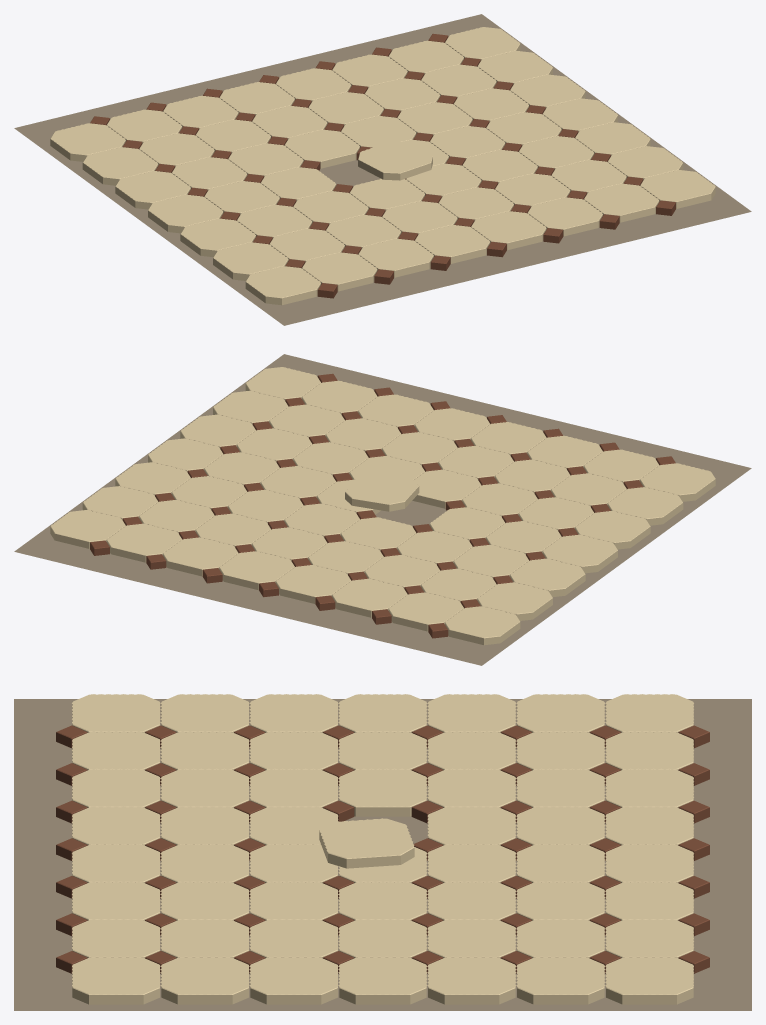
Rendered from terilgan.glb.
The picture shows the model from 3 angles, top to bottom: view 1: azimuth 30°, elevation 25°; view 2: azimuth 150°, elevation 25°; view 3: azimuth 270°, elevation 25°; orthographic projection. The views are drawn at different scales.
Visible parts, largest first — view 1: qum, t.027, t, t.007, t.001, t.005, t.003, t.035, t.004, t.002, t.006, t.040 (+44 smaller); view 2: qum, t.027, t.048, t.055, t.049, t.053, t.051, t.052, t.050, t.054, t.008, t (+45 smaller); view 3: qum, t.027, t.031, t.007, t.055, t.015, t.023, t.039, t.047, t.026, t.030, t.002 (+45 smaller).
Boxes of the visible parts, left/top/right/bottom form: qum: left=14, top=14, right=751, bottom=325; t.027: left=358, top=141, right=432, bottom=180; t: left=245, top=266, right=320, bottom=305; t.007: left=640, top=170, right=715, bottom=208; t.001: left=302, top=252, right=377, bottom=291; t.005: left=527, top=197, right=602, bottom=236; t.003: left=414, top=225, right=490, bottom=263; t.035: left=284, top=129, right=359, bottom=168; t.004: left=471, top=211, right=546, bottom=250; t.002: left=358, top=238, right=433, bottom=277; t.006: left=584, top=183, right=659, bottom=222; t.040: left=82, top=147, right=158, bottom=185; qum: left=14, top=354, right=751, bottom=665; t.027: left=345, top=473, right=419, bottom=511; t.048: left=445, top=606, right=520, bottom=645; t.055: left=50, top=510, right=125, bottom=548; t.049: left=388, top=592, right=463, bottom=631; t.053: left=163, top=537, right=238, bottom=576; t.051: left=275, top=565, right=351, bottom=603; t.052: left=219, top=551, right=294, bottom=590; t.050: left=332, top=578, right=407, bottom=617; t.054: left=106, top=523, right=181, bottom=562; t.008: left=607, top=487, right=683, bottom=525; t: left=640, top=463, right=715, bottom=501; qum: left=14, top=699, right=751, bottom=1010; t.027: left=319, top=818, right=414, bottom=868; t.031: left=338, top=957, right=427, bottom=1004; t.007: left=72, top=957, right=160, bottom=1004; t.055: left=605, top=957, right=693, bottom=1004; t.015: left=161, top=957, right=249, bottom=1004; t.023: left=249, top=957, right=338, bottom=1004; t.039: left=427, top=957, right=516, bottom=1004; t.047: left=516, top=957, right=604, bottom=1004; t.026: left=338, top=769, right=427, bottom=816; t.030: left=338, top=919, right=427, bottom=958; t.002: left=72, top=769, right=160, bottom=807.
Size of the model in its own units: 1.66 by 0.052 by 1.66.
